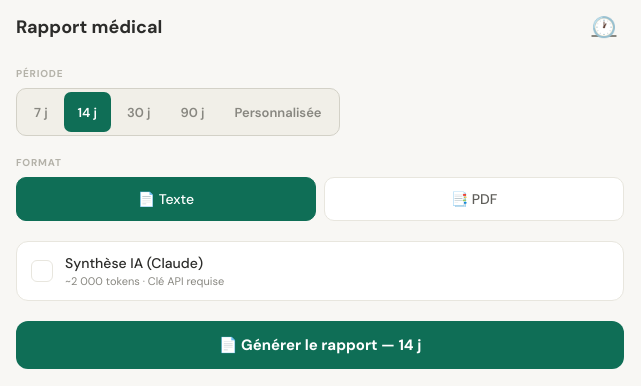
Test: ReportBuilderComponent › option IA › toggle la synthèse IA sur clic
Step 1. Click the button with test id "ai-summary-checkbox" → (134, 263), box [16,241,624,301]
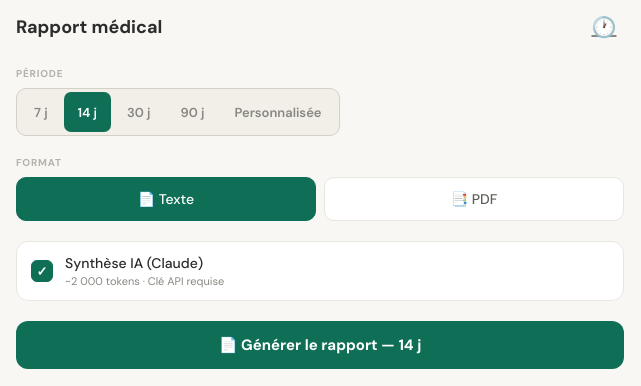
Expected: the text "✓" is shown, [31,260,53,282]
